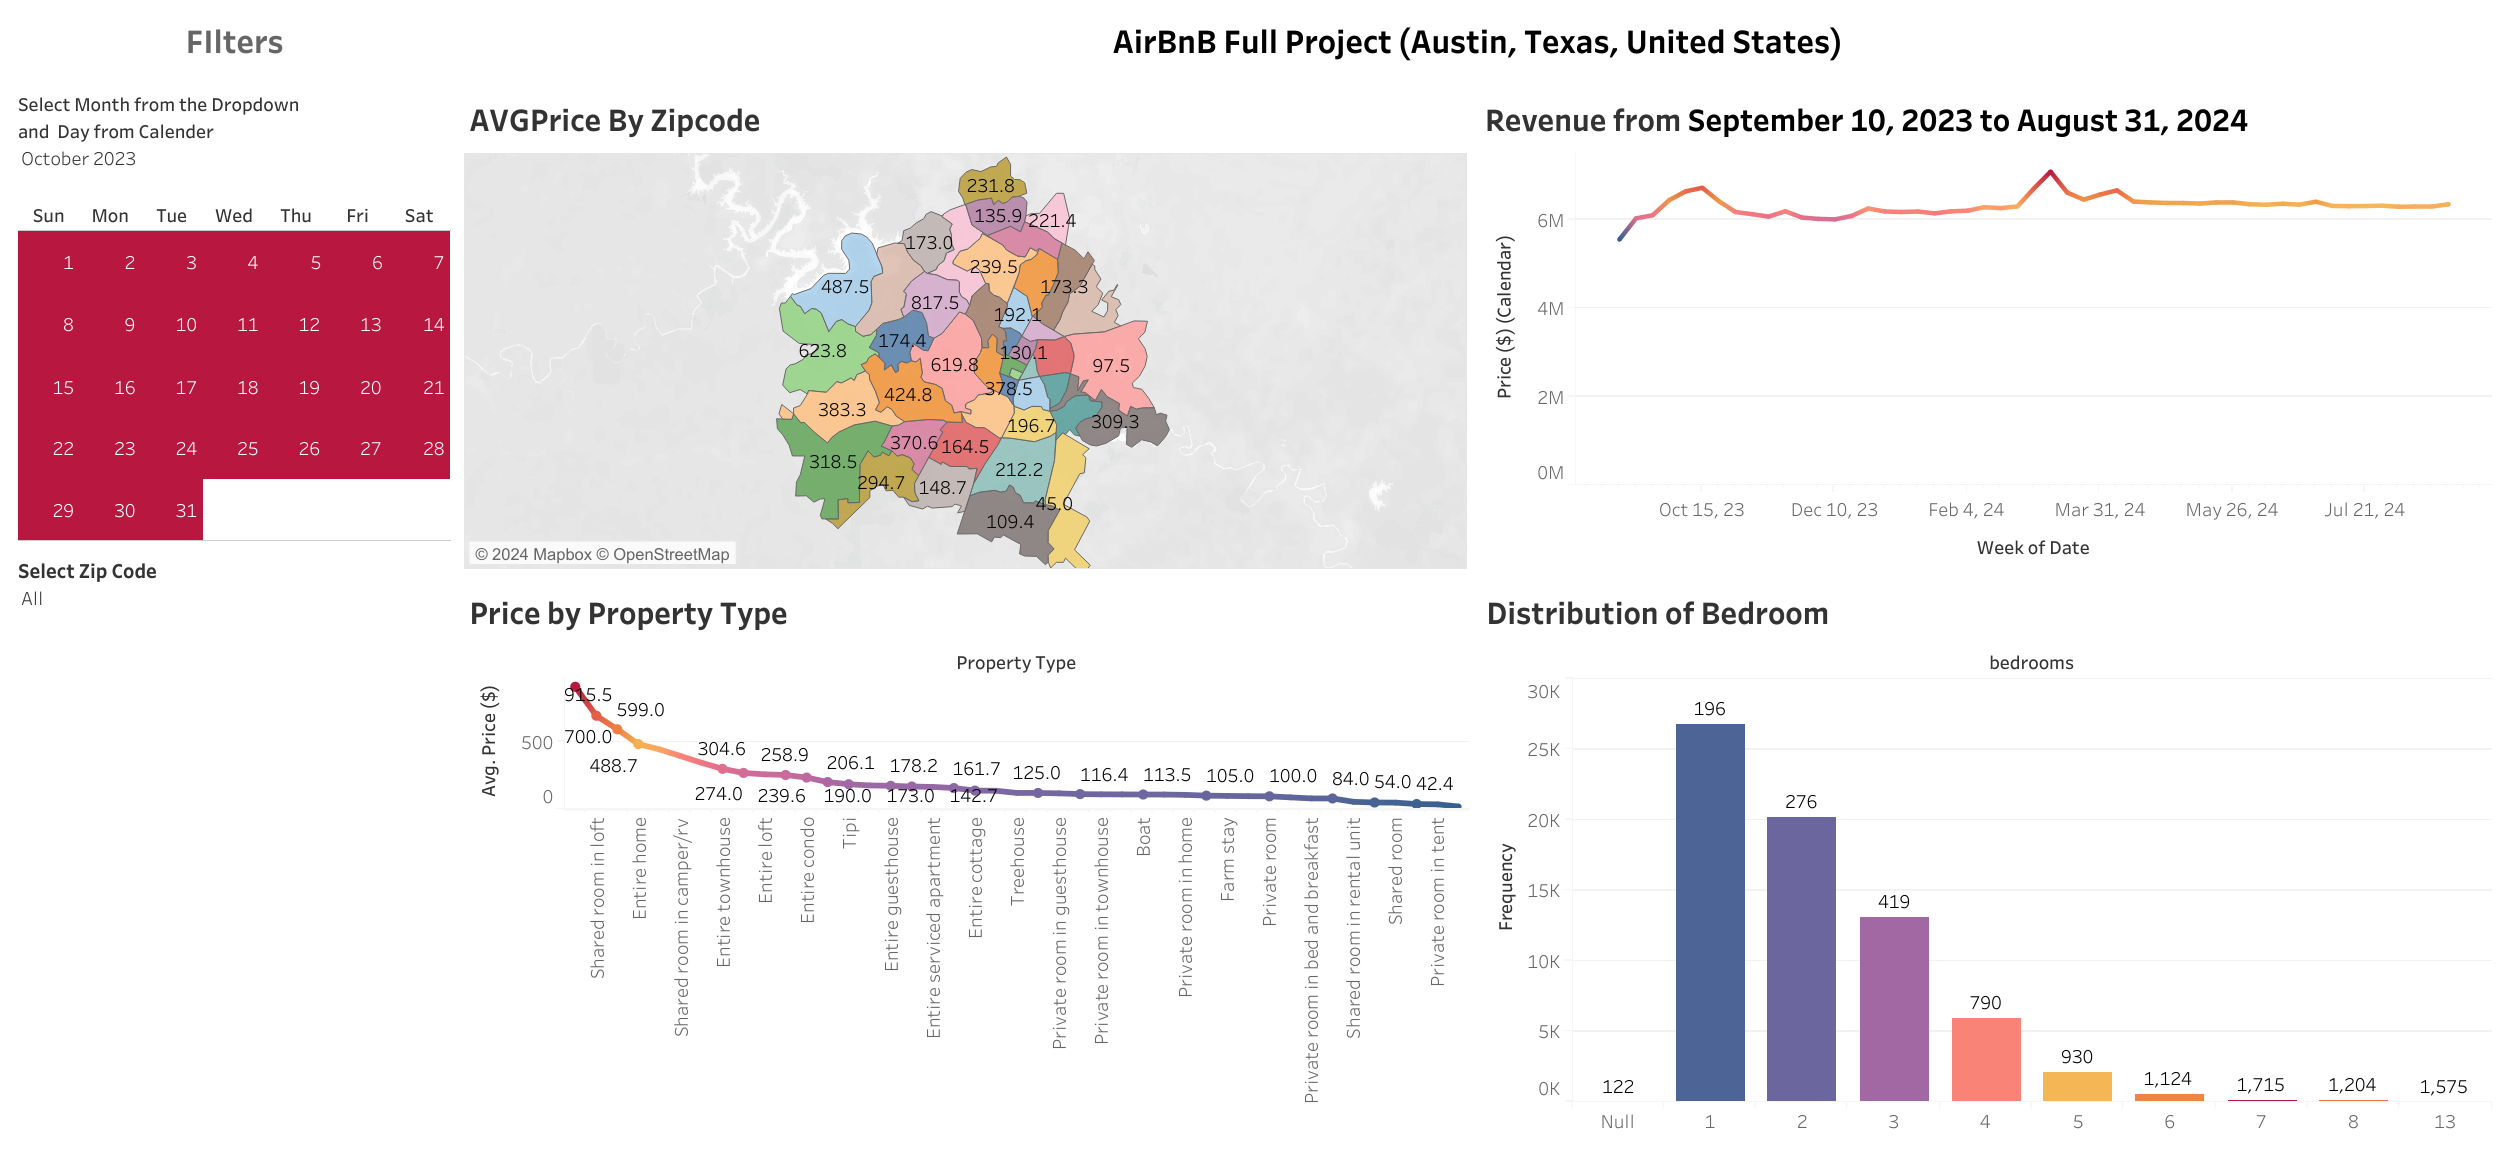

Layout of this report page (visuals, bound fields, positions):
{"tool":"tableau","page":{"name":"AirBnB Full Project (Austin, Texas, United States)","canvas":[1000,1000],"units":"permille","ordinal":0},"visuals":[{"type":"text","box":[3.6,6,177.8,39.2]},{"type":"text","box":[181.4,6,815.1,39.2]},{"type":"blank","box":[3.6,45.2,177.8,7.5]},{"type":"blank","box":[181.4,45.2,815.1,7.5]},{"type":"filter","title":"Calender","param":"[federated.0jehhzj0xvnd7x1cf9lt70tkohrk].[my:date:ok]","box":[3.6,52.8,177.8,71.6]},{"type":"worksheet","title":"AVGPRICEMAP","mark":"Multipolygon","box":[181.4,52.8,406,447.2]},{"type":"worksheet","title":"REVENUE","mark":"Automatic","rows":["price ($) (calendar)"],"cols":["date"],"box":[587.3,52.8,409.1,447.2]},{"type":"worksheet","title":"Calender","mark":"Square","rows":["date"],"cols":["date"],"box":[3.6,124.4,177.8,178]},{"type":"filter","title":"Calender","param":"[federated.0jehhzj0xvnd7x1cf9lt70tkohrk].[none:ZipCode:ok]","box":[3.6,302.4,177.8,54.3]},{"type":"worksheet","title":"Price by Property Type","mark":"Line","rows":["price ($)"],"cols":["property_type"],"box":[181.4,500,406.4,494]},{"type":"worksheet","title":"Distribution of Bedroom","mark":"Automatic","rows":["bedrooms"],"cols":["bedrooms"],"box":[587.8,500,408.6,494]}]}

Visuals, with their boxes on the dashboard's canvas, which has no fixed pixel size, in thousandths of its width and height (x1, y1, x2, y2). These are canvas units, not pixel positions in the 2508x1151 screenshot, which may show the page scaled, cropped or inside an application window:
text: locate(4, 6, 181, 45)
text: locate(181, 6, 996, 45)
blank: locate(4, 45, 181, 53)
blank: locate(181, 45, 996, 53)
"Calender" filter: locate(4, 53, 181, 124)
"AVGPRICEMAP" worksheet (Multipolygon marks): locate(181, 53, 587, 500)
"REVENUE" worksheet: locate(587, 53, 996, 500)
"Calender" worksheet (Square marks): locate(4, 124, 181, 302)
"Calender" filter: locate(4, 302, 181, 357)
"Price by Property Type" worksheet (Line marks): locate(181, 500, 588, 994)
"Distribution of Bedroom" worksheet: locate(588, 500, 996, 994)
